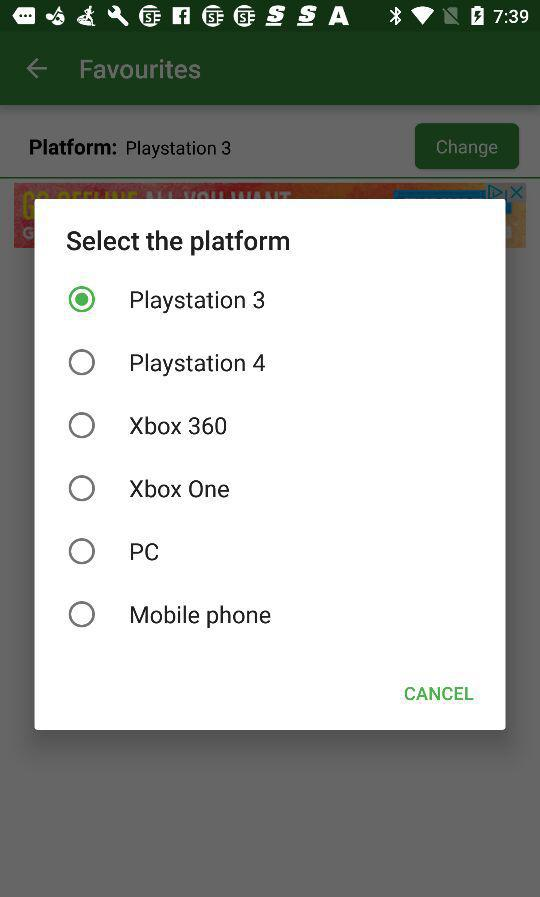CheckedTextView: (69, 349, 266, 377), (69, 601, 271, 628), (69, 287, 265, 314), (70, 475, 230, 502), (70, 412, 227, 439), (69, 538, 159, 565)
Icon: (26, 59, 48, 80)
Modal: (35, 199, 507, 731)
Text: (68, 230, 290, 257), (30, 139, 231, 160), (131, 353, 266, 377), (131, 290, 265, 314), (131, 605, 271, 626), (81, 59, 201, 81), (130, 479, 230, 498), (130, 416, 227, 435), (404, 686, 474, 701), (131, 542, 159, 562)
TextButton: (414, 123, 519, 170)
UpperTaskBar: (1, 1, 540, 33)
